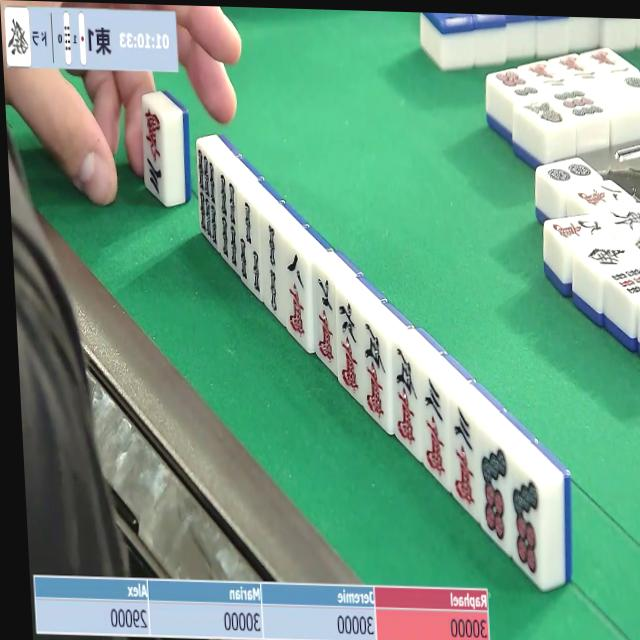2B: (259, 222, 284, 320)
3B: (236, 198, 262, 298)
3C: (417, 372, 451, 480), (448, 403, 480, 513), (141, 105, 165, 202)
4B: (216, 171, 240, 271)
5C: (357, 319, 389, 425), (390, 344, 422, 449)
6B: (194, 150, 218, 249)
6C: (334, 298, 360, 396)
7C: (307, 269, 336, 368)
7D: (507, 466, 545, 582), (476, 434, 512, 548)
8C: (282, 246, 311, 344)
GD: (1, 7, 30, 64)
